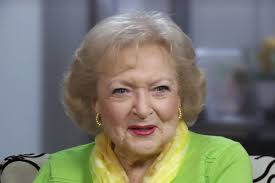white_female: (88, 25, 182, 161)
